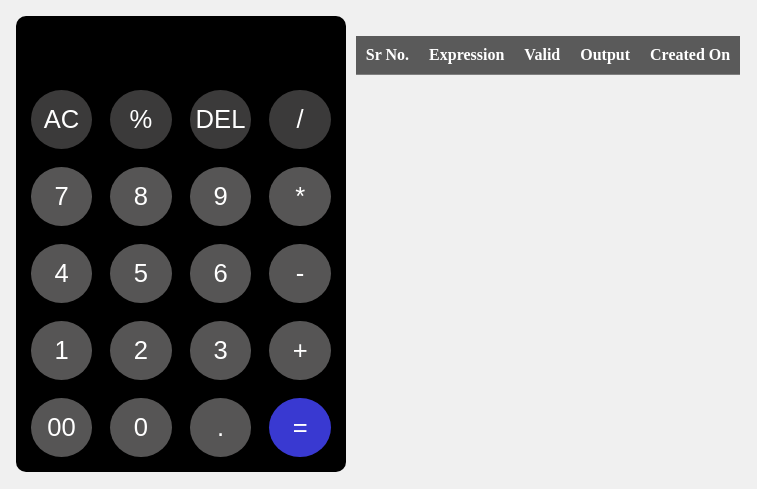
Test case: Calculator Component › handles button clicks correctly
This screenshot has width=757, height=489.
Click the button "5" at {"x": 141, "y": 274}, box [110,244,172,303]
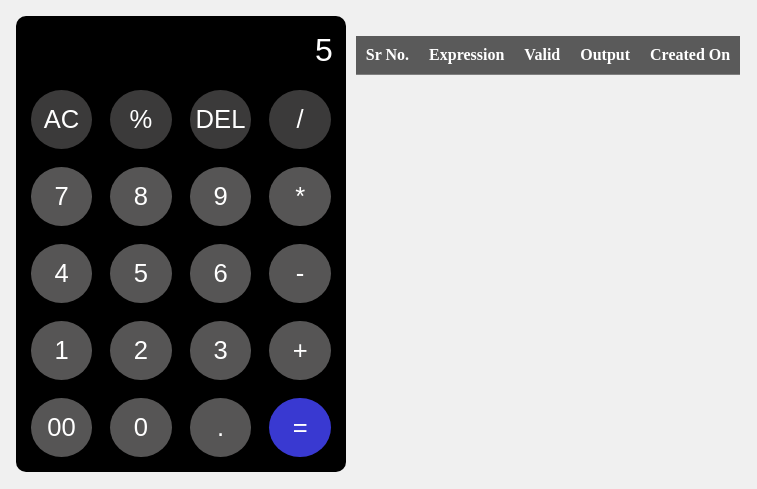
Click the button "+" at {"x": 300, "y": 350}, box [269,321,331,380]
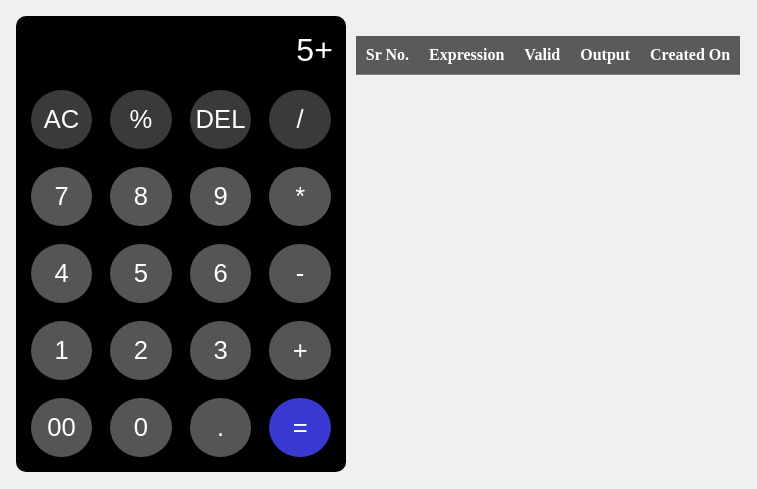
Click the button "2" at {"x": 141, "y": 350}, box [110,321,172,380]
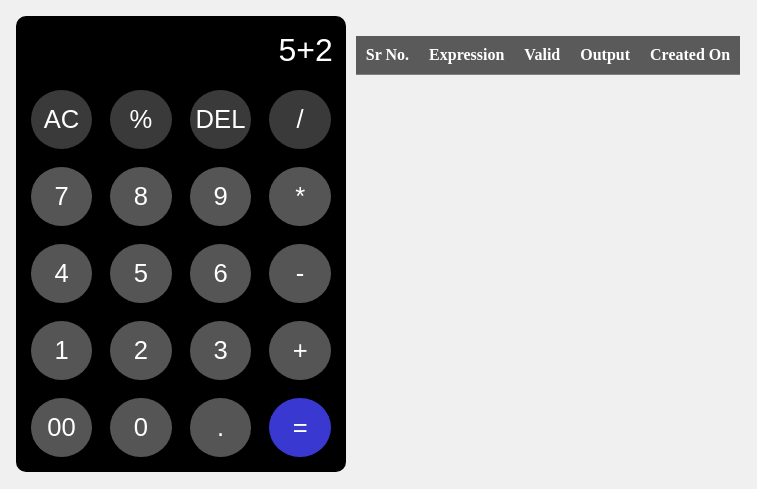
Click the button "=" at {"x": 300, "y": 428}, box [269,398,331,457]
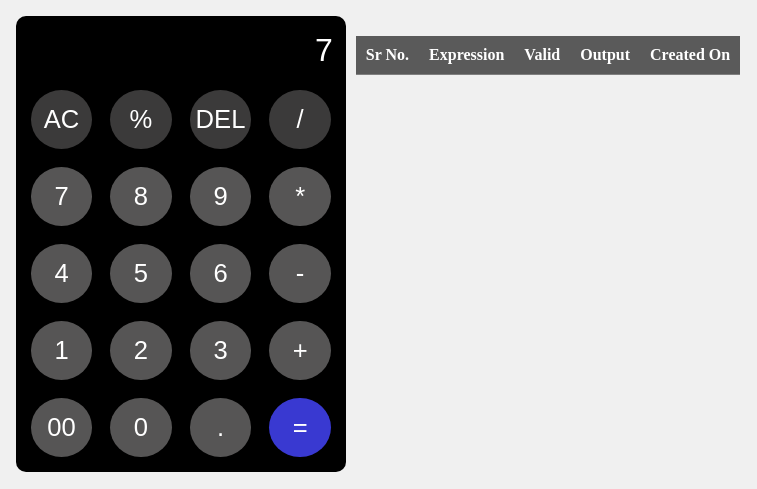
expect the field holds "7": met, box [31,31,335,70]
